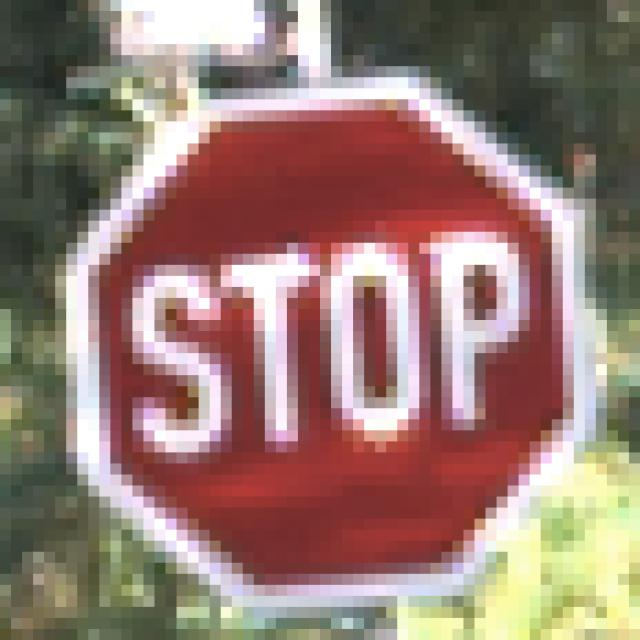STOP: (56, 67, 575, 586)
